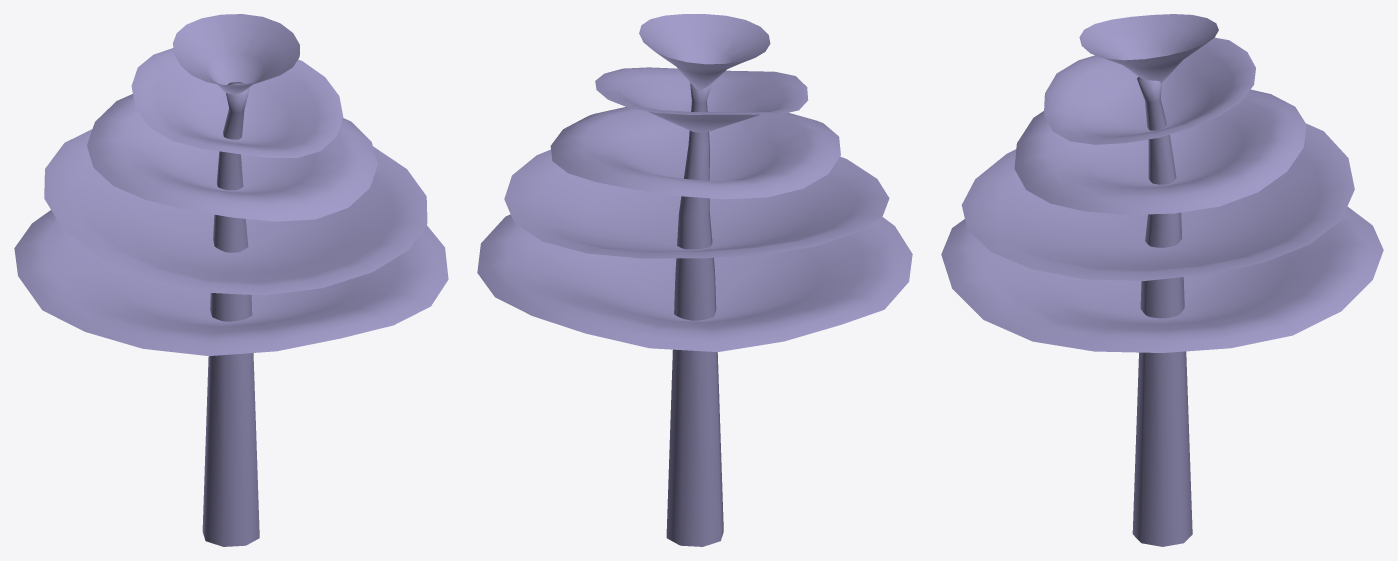
File: SM_ocean_christmas_treeWorm_01.fbx
3 renders of one model, left to right at view 1: azimuth 30°, elevation 25°; view 2: azimuth 150°, elevation 25°; view 3: azimuth 270°, elevation 25°, orthographic.
Visible parts, largest first — view 1: SM_ocean_christmas_treeWorm_01_LOD0; view 2: SM_ocean_christmas_treeWorm_01_LOD0; view 3: SM_ocean_christmas_treeWorm_01_LOD0.
Part boxes in pixels (left/top/right/bottom): SM_ocean_christmas_treeWorm_01_LOD0: left=14, top=14, right=448, bottom=546; SM_ocean_christmas_treeWorm_01_LOD0: left=477, top=14, right=912, bottom=546; SM_ocean_christmas_treeWorm_01_LOD0: left=941, top=14, right=1383, bottom=546.
Size of what is drawn, in the model's own units: 20.72 by 20.72 by 26.1.
